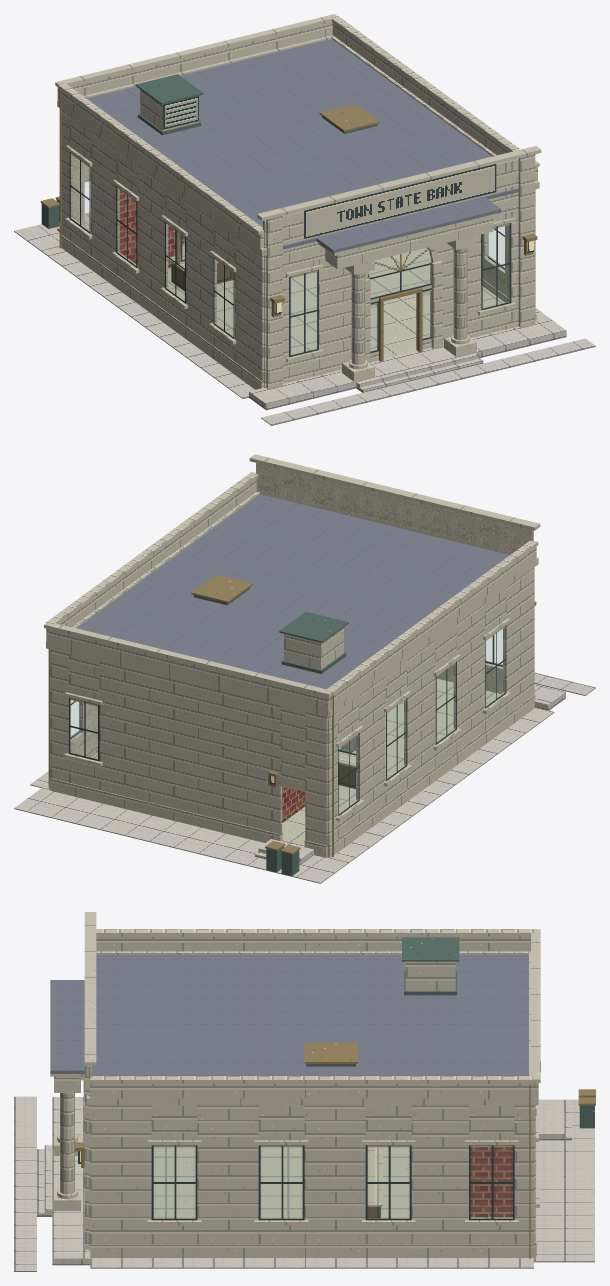
The model's file is small-town-bank-1920s.glb.
3 renders of one model, top to bottom at view 1: azimuth 30°, elevation 25°; view 2: azimuth 150°, elevation 25°; view 3: azimuth 270°, elevation 25°, orthographic. The views are drawn at different scales.
Visible parts, largest first — view 1: structure__wall_stone, structure__roof_membrane, structure__glass_bank, lot__ground_paving, structure__ground_floor, structure__ground_paving, sign_name, structure__detail_bronze, structure__detail_steel, structure__wall_brick, structure__detail_panels; view 2: structure__wall_stone, structure__roof_membrane, lot__ground_paving, structure__glass_bank, structure__ground_floor, structure__detail_bronze, structure__detail_steel, structure__ground_paving, structure__wall_brick; view 3: structure__wall_stone, structure__roof_membrane, lot__ground_paving, structure__glass_bank, structure__ground_floor, structure__ground_paving, structure__wall_brick, structure__detail_steel, structure__detail_bronze.
Part boxes in pixels (x1,y1,x2,y2): structure__wall_stone: (55, 14, 541, 389); structure__roof_membrane: (87, 38, 519, 254); structure__glass_bank: (69, 152, 511, 357); lot__ground_paving: (14, 212, 595, 425); structure__ground_floor: (168, 243, 504, 358); structure__ground_paving: (57, 220, 566, 410); sign_name: (304, 164, 496, 238); structure__detail_bronze: (59, 90, 537, 361); structure__detail_steel: (135, 74, 377, 135); structure__wall_brick: (119, 190, 184, 267); structure__detail_panels: (163, 96, 234, 291); structure__wall_stone: (44, 454, 540, 857); structure__roof_membrane: (77, 494, 509, 689); lot__ground_paving: (14, 660, 595, 883); structure__glass_bank: (69, 625, 506, 815); structure__ground_floor: (91, 678, 500, 845); structure__detail_bronze: (48, 574, 536, 856); structure__detail_steel: (193, 587, 348, 673); structure__ground_paving: (254, 684, 565, 865); structure__wall_brick: (282, 736, 355, 822); structure__wall_stone: (50, 912, 540, 1257); structure__roof_membrane: (50, 954, 528, 1075); lot__ground_paving: (14, 1096, 594, 1271); structure__glass_bank: (151, 1145, 514, 1220); structure__ground_floor: (153, 1147, 512, 1218); structure__ground_paving: (37, 1097, 571, 1265); structure__wall_brick: (470, 1147, 512, 1217); structure__detail_steel: (306, 937, 459, 1066); structure__detail_bronze: (75, 1042, 530, 1258).
Size of what is drawn, in the model's own units: 16.76 by 8.85 by 23.63.
12 materials, 12 textured.
